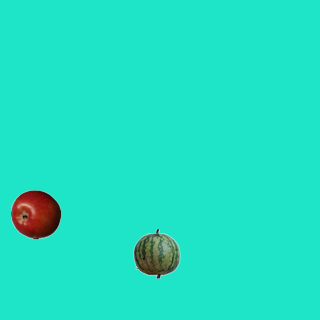Apple Braeburn: (10, 189, 60, 239)
Watermelon: (131, 228, 181, 278)
